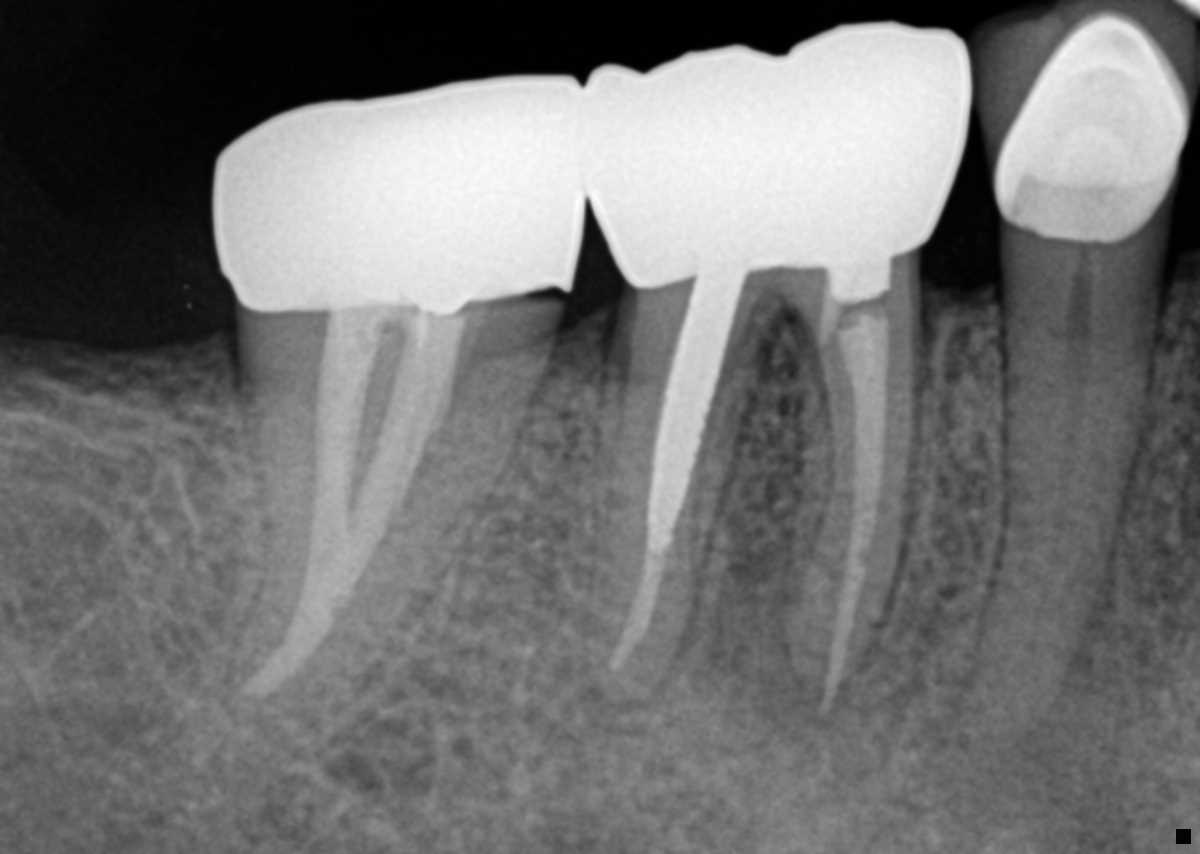Apical Lesion: (914, 617, 1134, 850), (707, 542, 910, 773)
Distal Root: (583, 312, 775, 703)
Main Canal: (1000, 304, 1092, 724)
Main Root: (224, 328, 548, 740), (960, 300, 1162, 750)
Mesial Root: (782, 314, 922, 691)
Root Canal Filling: (239, 306, 463, 705), (819, 320, 888, 719), (610, 552, 664, 672)
